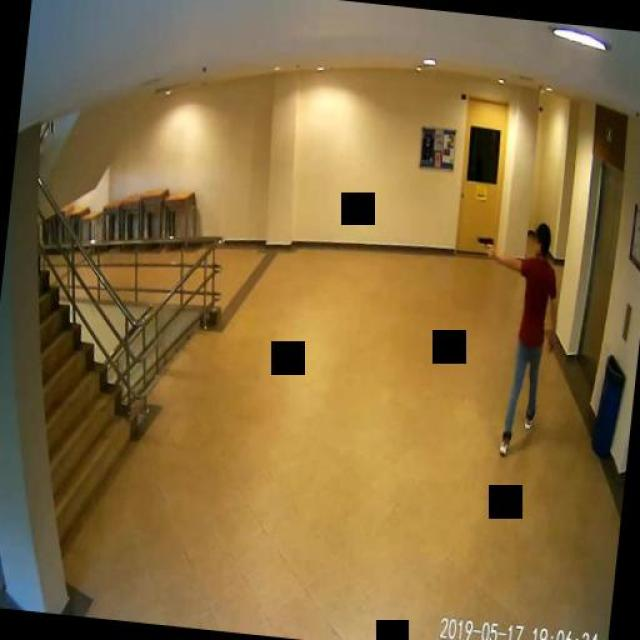gun: (470, 231, 501, 259)
